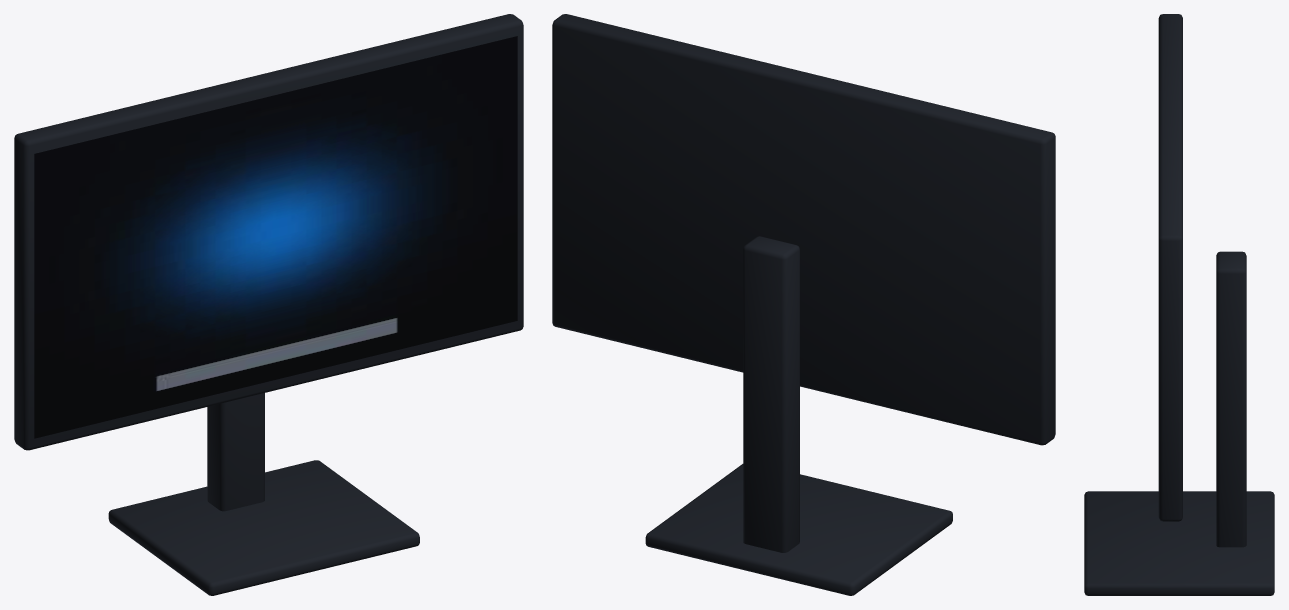
Rendered from mon_esports_27-16cfadbe8c6b.glb.
3 views of the same model, side by side, from view 1: azimuth 30°, elevation 25°; view 2: azimuth 150°, elevation 25°; view 3: azimuth 270°, elevation 25° (orthographic). The views are drawn at different scales.
Parts seen in each view (by area): view 1: Screen_Surface, Mesh_Matte_Carbon; view 2: Mesh_Matte_Carbon; view 3: Mesh_Matte_Carbon.
Part boxes in pixels (left/top/right/bottom): Screen_Surface: left=34, top=36, right=517, bottom=438; Mesh_Matte_Carbon: left=14, top=14, right=523, bottom=595; Mesh_Matte_Carbon: left=552, top=14, right=1055, bottom=595; Mesh_Matte_Carbon: left=1084, top=14, right=1274, bottom=595.
Size of the model in its own units: 0.615 by 0.5425 by 0.22.
Materials: 2 (1 with a texture image).
